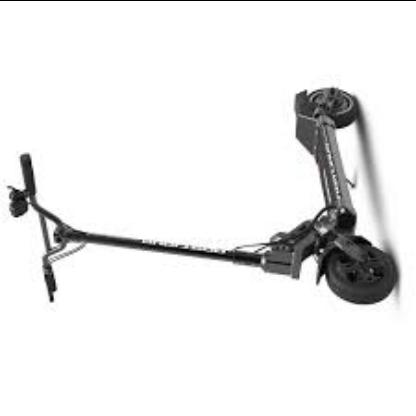bike: (5, 86, 400, 307)
